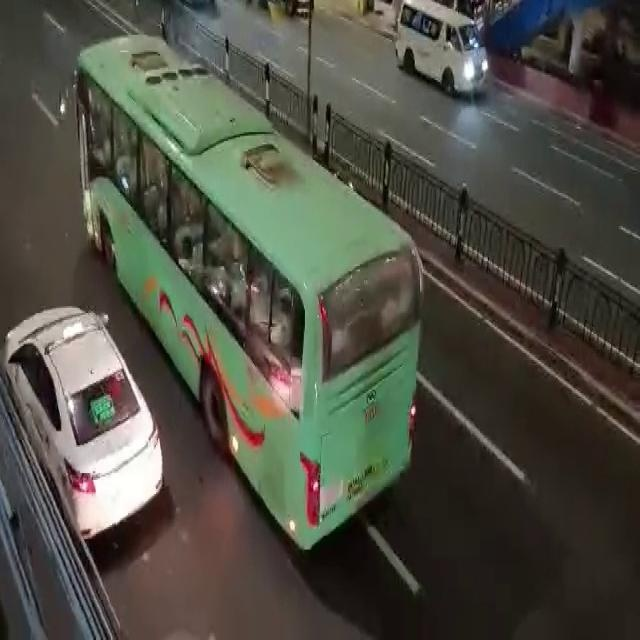bus: (64, 25, 578, 601)
car: (84, 276, 639, 586), (386, 0, 506, 115)
